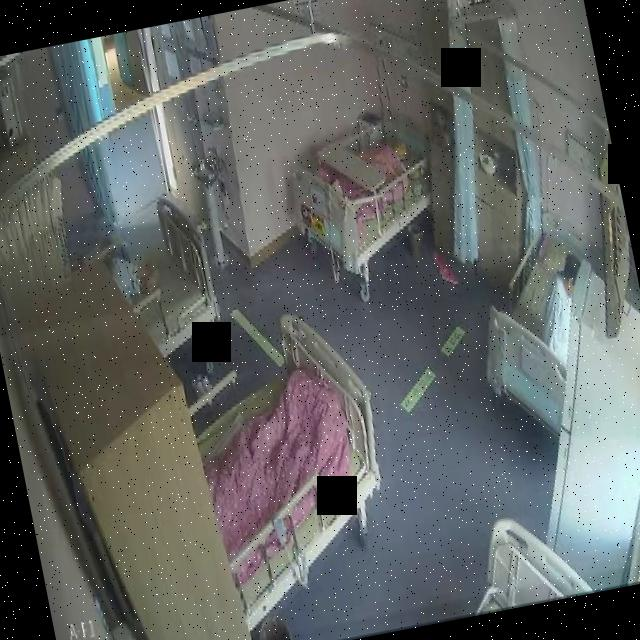bed: (176, 309, 398, 603), (460, 209, 615, 448), (282, 108, 448, 280), (104, 188, 227, 360)
patient: (528, 250, 600, 368)
sit: (528, 248, 600, 368)
